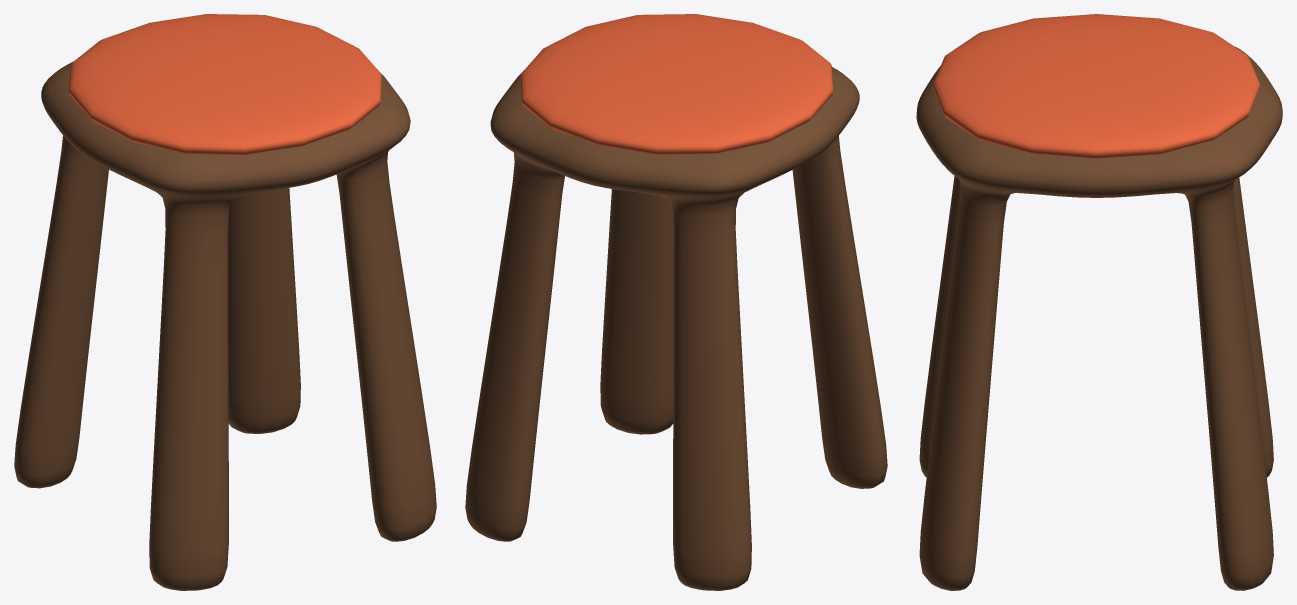
Rendered from officestool.fbx.
3 renders of one model, left to right at view 1: azimuth 30°, elevation 25°; view 2: azimuth 150°, elevation 25°; view 3: azimuth 270°, elevation 25°, orthographic. The views are drawn at different scales.
Visible parts, largest first — view 1: Cube, Cube.001; view 2: Cube, Cube.001; view 3: Cube, Cube.001.
Boxes of the visible parts, <box> form: Cube: <box>14,61,436,590</box>; Cube.001: <box>69,14,381,155</box>; Cube: <box>465,67,887,590</box>; Cube.001: <box>520,14,833,154</box>; Cube: <box>916,46,1282,590</box>; Cube.001: <box>933,14,1260,158</box>.
Bounding box in the file's own units: 190 × 272 × 195.
